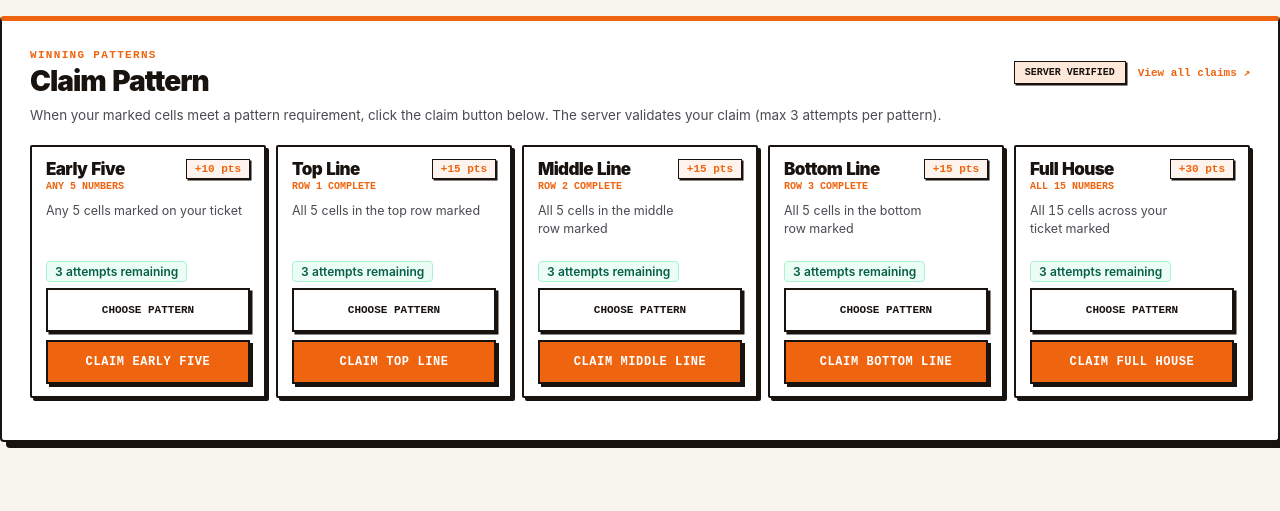
Scenario: participant claims › suppresses duplicate confirmation while a request is pending
Click the button "Claim Early Five". click: [148, 362]
box: [46,340,250,384]
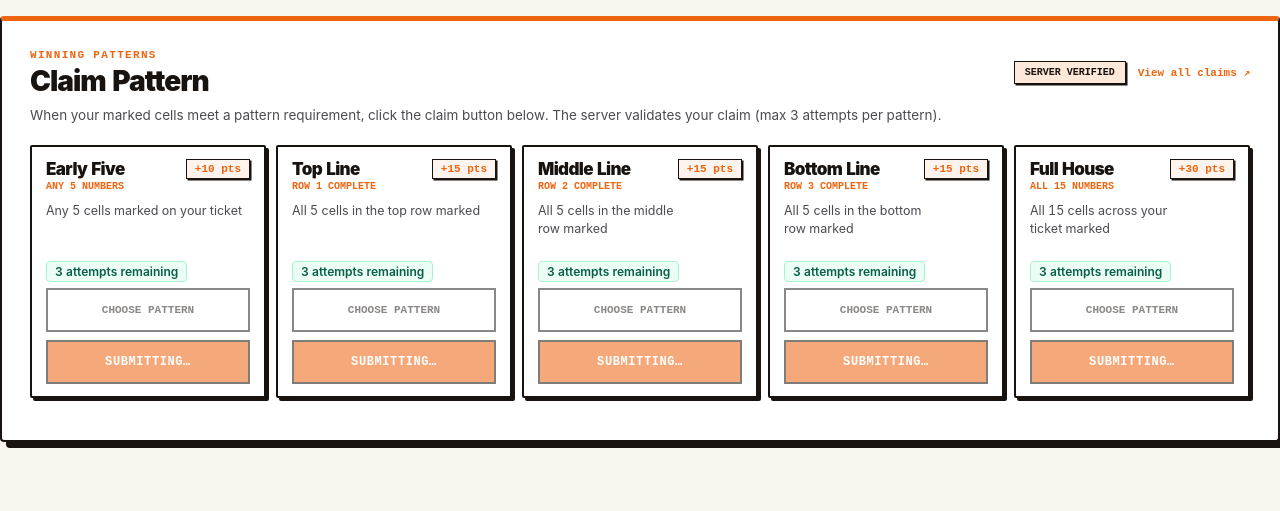
Click the button named "Claim Early Five". click: [148, 362]
box: [46,340,250,384]
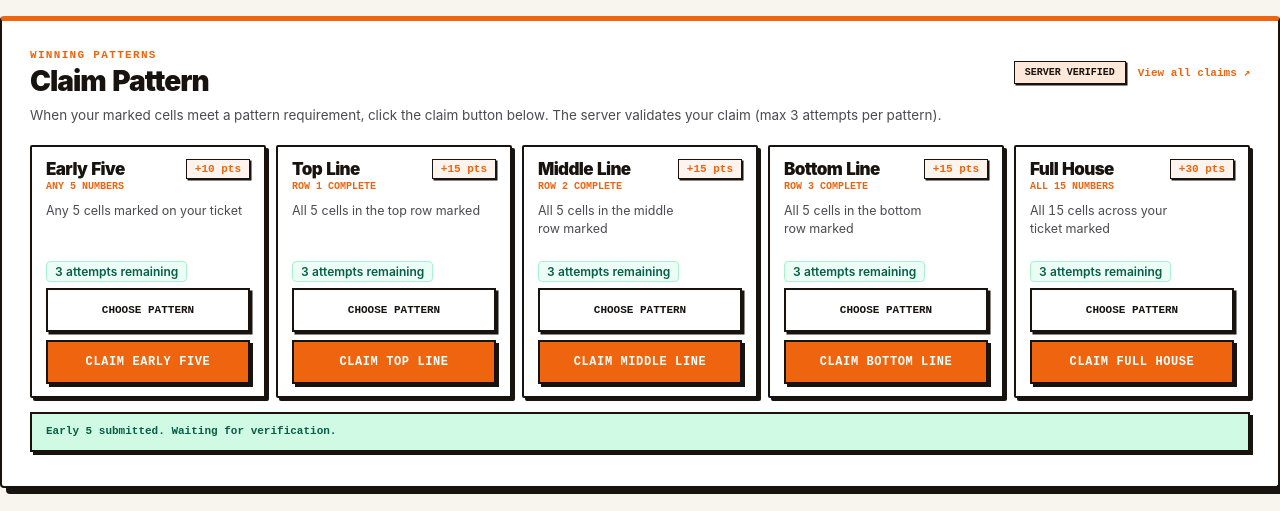
Check: the text "Early 5 submitted. Waiting for verification." is shown, box [30,412,1250,452]
